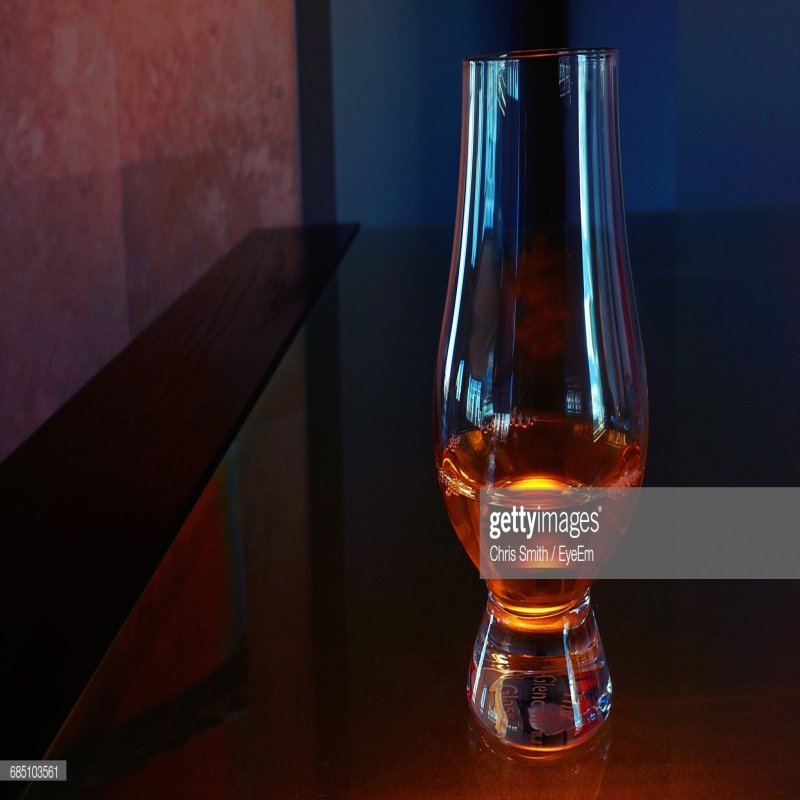whiskey: (416, 46, 653, 736)
